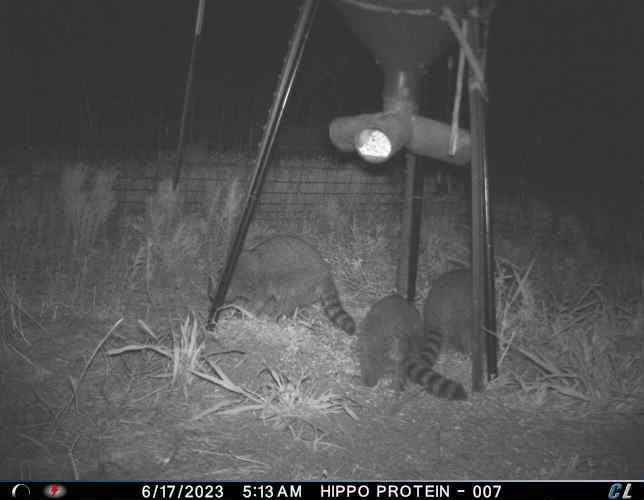Raccoon: (231, 231, 359, 337), (356, 294, 468, 402), (424, 265, 474, 365)
